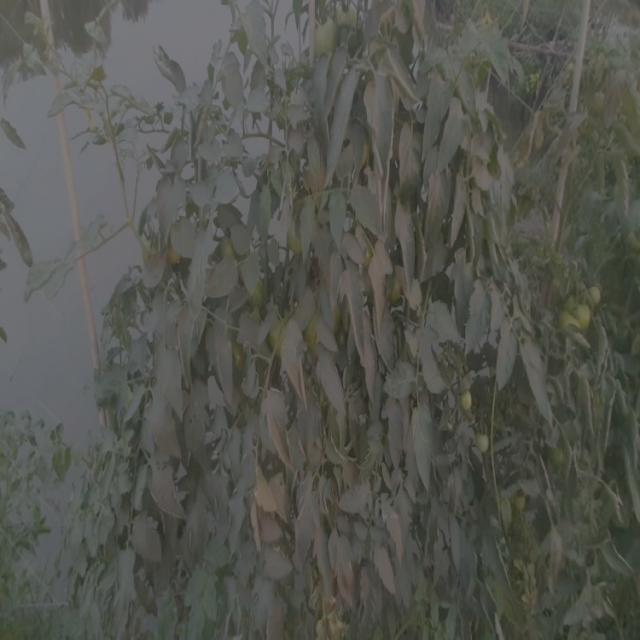tomato: (558, 301, 594, 337), (309, 15, 336, 55), (583, 276, 609, 309), (304, 318, 328, 351), (471, 429, 496, 460), (340, 1, 361, 30), (271, 322, 289, 355), (219, 233, 240, 261), (248, 274, 267, 301), (459, 386, 477, 412)
